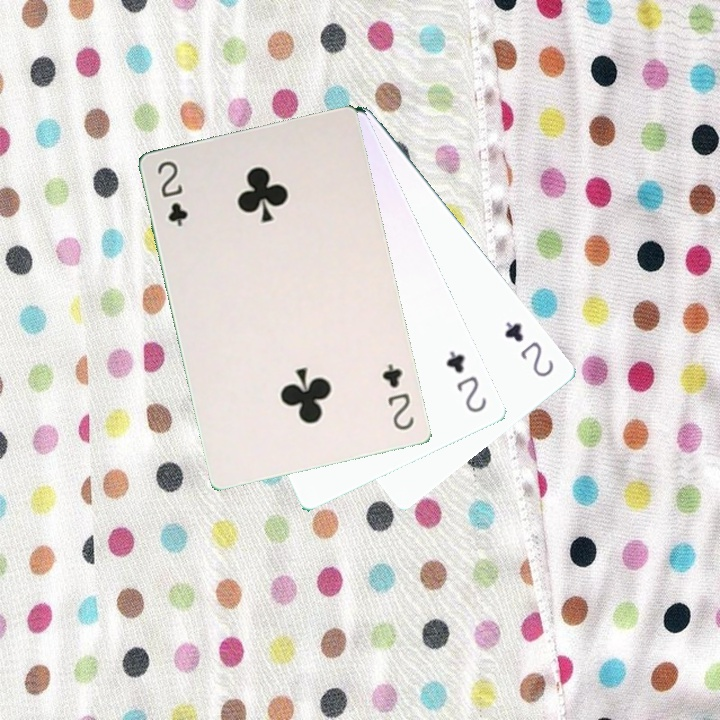2c: (500, 317, 557, 380), (441, 346, 489, 416), (378, 359, 417, 433), (153, 156, 191, 229)
